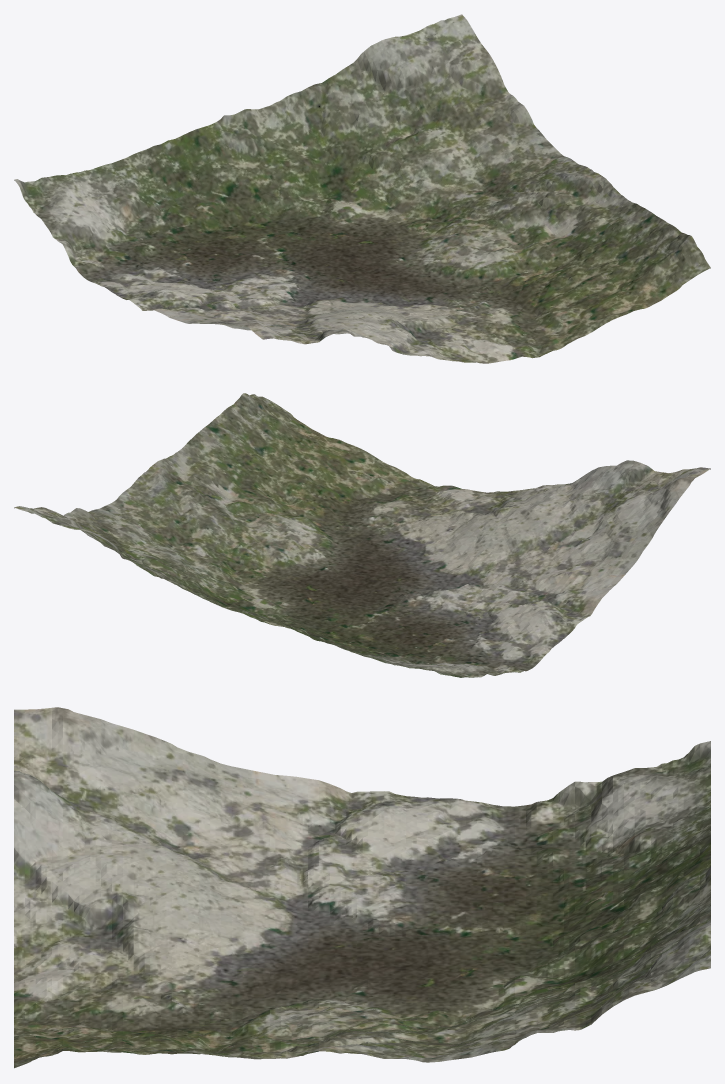
3 renders of one model, top to bottom at view 1: azimuth 30°, elevation 25°; view 2: azimuth 150°, elevation 25°; view 3: azimuth 270°, elevation 25°, orthographic. The views are drawn at different scales.
Size of the model in its own units: 500 by 128 by 481.
1 material, 1 textured.
